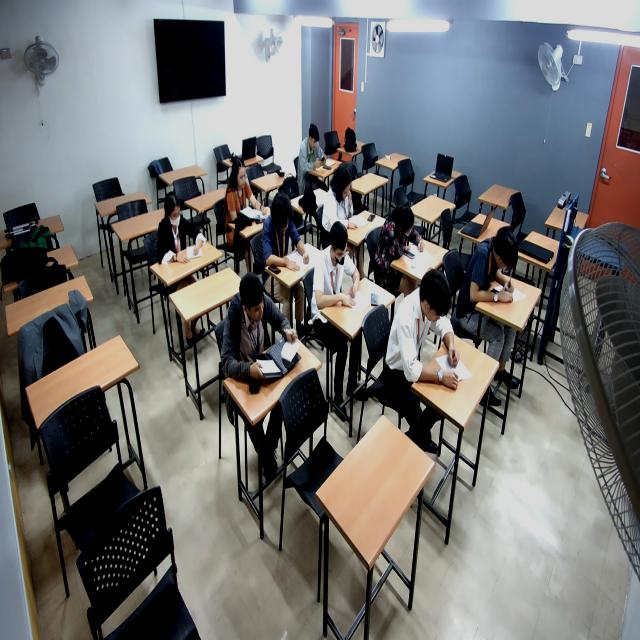read: (218, 270, 301, 402), (401, 283, 468, 393), (318, 229, 370, 320), (471, 231, 526, 316), (261, 200, 316, 285), (158, 191, 211, 275), (223, 167, 274, 239), (329, 174, 369, 246), (385, 209, 431, 263), (299, 128, 335, 183)
